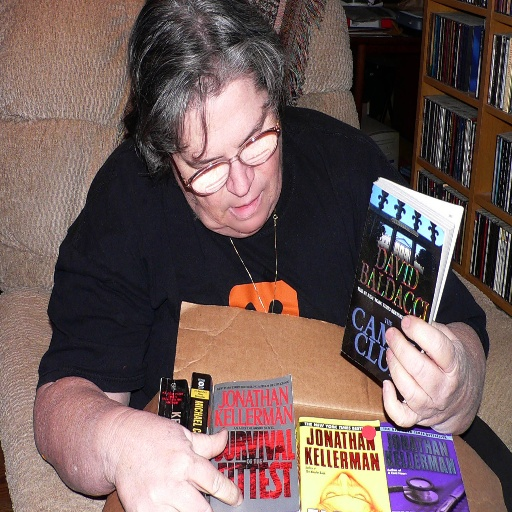hand: (113, 411, 242, 511), (379, 314, 482, 435)
